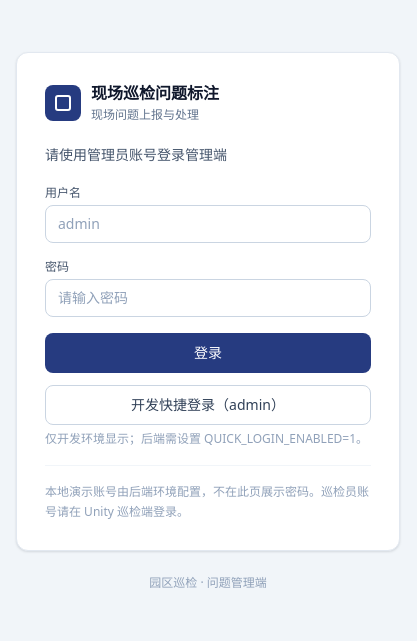
Scenario: 开发快捷登录 › 后端未启用时显示中文错误，不进入管理台
The width and height of the screenshot is (417, 641).
Click the button "开发快捷登录（admin）": (208, 404) [45,384,371,424]
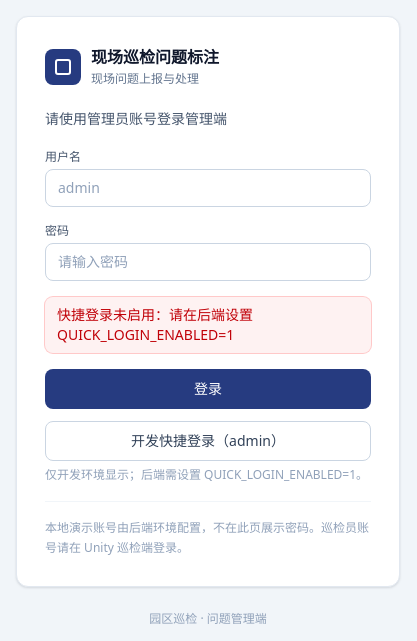
expect the message shows "QUICK_LOGIN_ENABLED=1": met, box [57,304,253,344]
